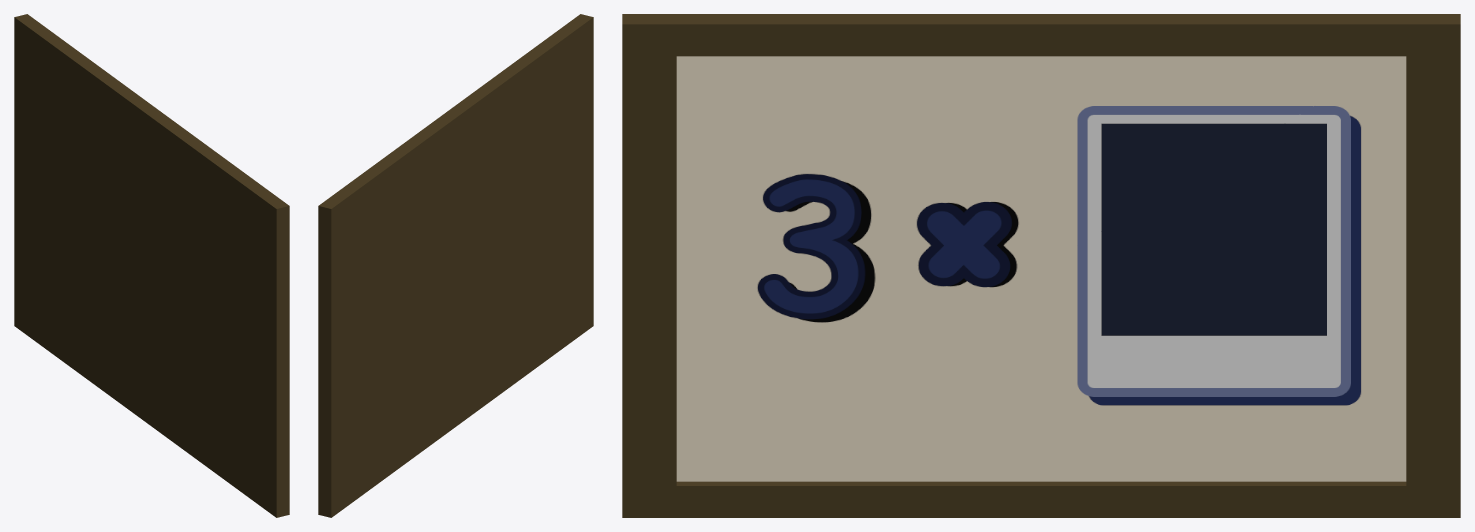
Rendered from photogoal.fbx.
3 views of the same model, side by side, from view 1: azimuth 30°, elevation 25°; view 2: azimuth 150°, elevation 25°; view 3: azimuth 270°, elevation 25° (orthographic). The views are drawn at different scales.
Parts seen in each view (by area): view 1: Cube; view 2: Cube; view 3: Cube.
Boxes of the visible parts, left/top/right/bottom form: Cube: left=14, top=14, right=289, bottom=517; Cube: left=318, top=14, right=593, bottom=517; Cube: left=622, top=14, right=1460, bottom=517.
Size of the model in its own units: 21.1 by 478 by 735.
